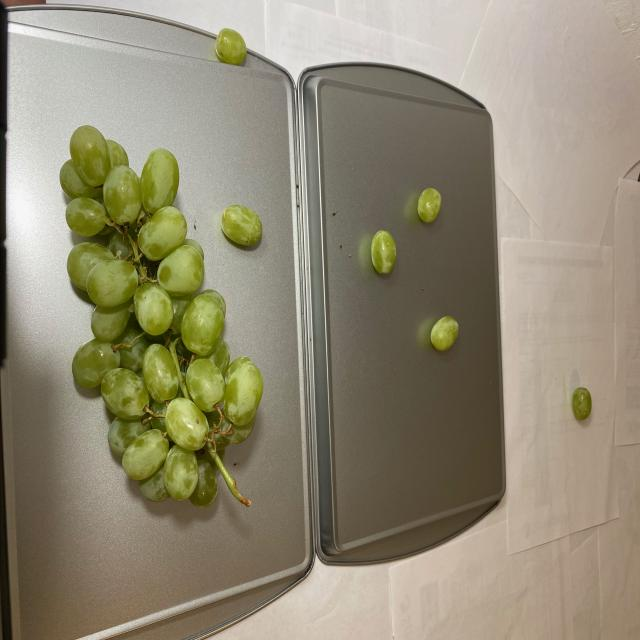Grapes: (59, 124, 266, 505), (364, 190, 461, 358)
